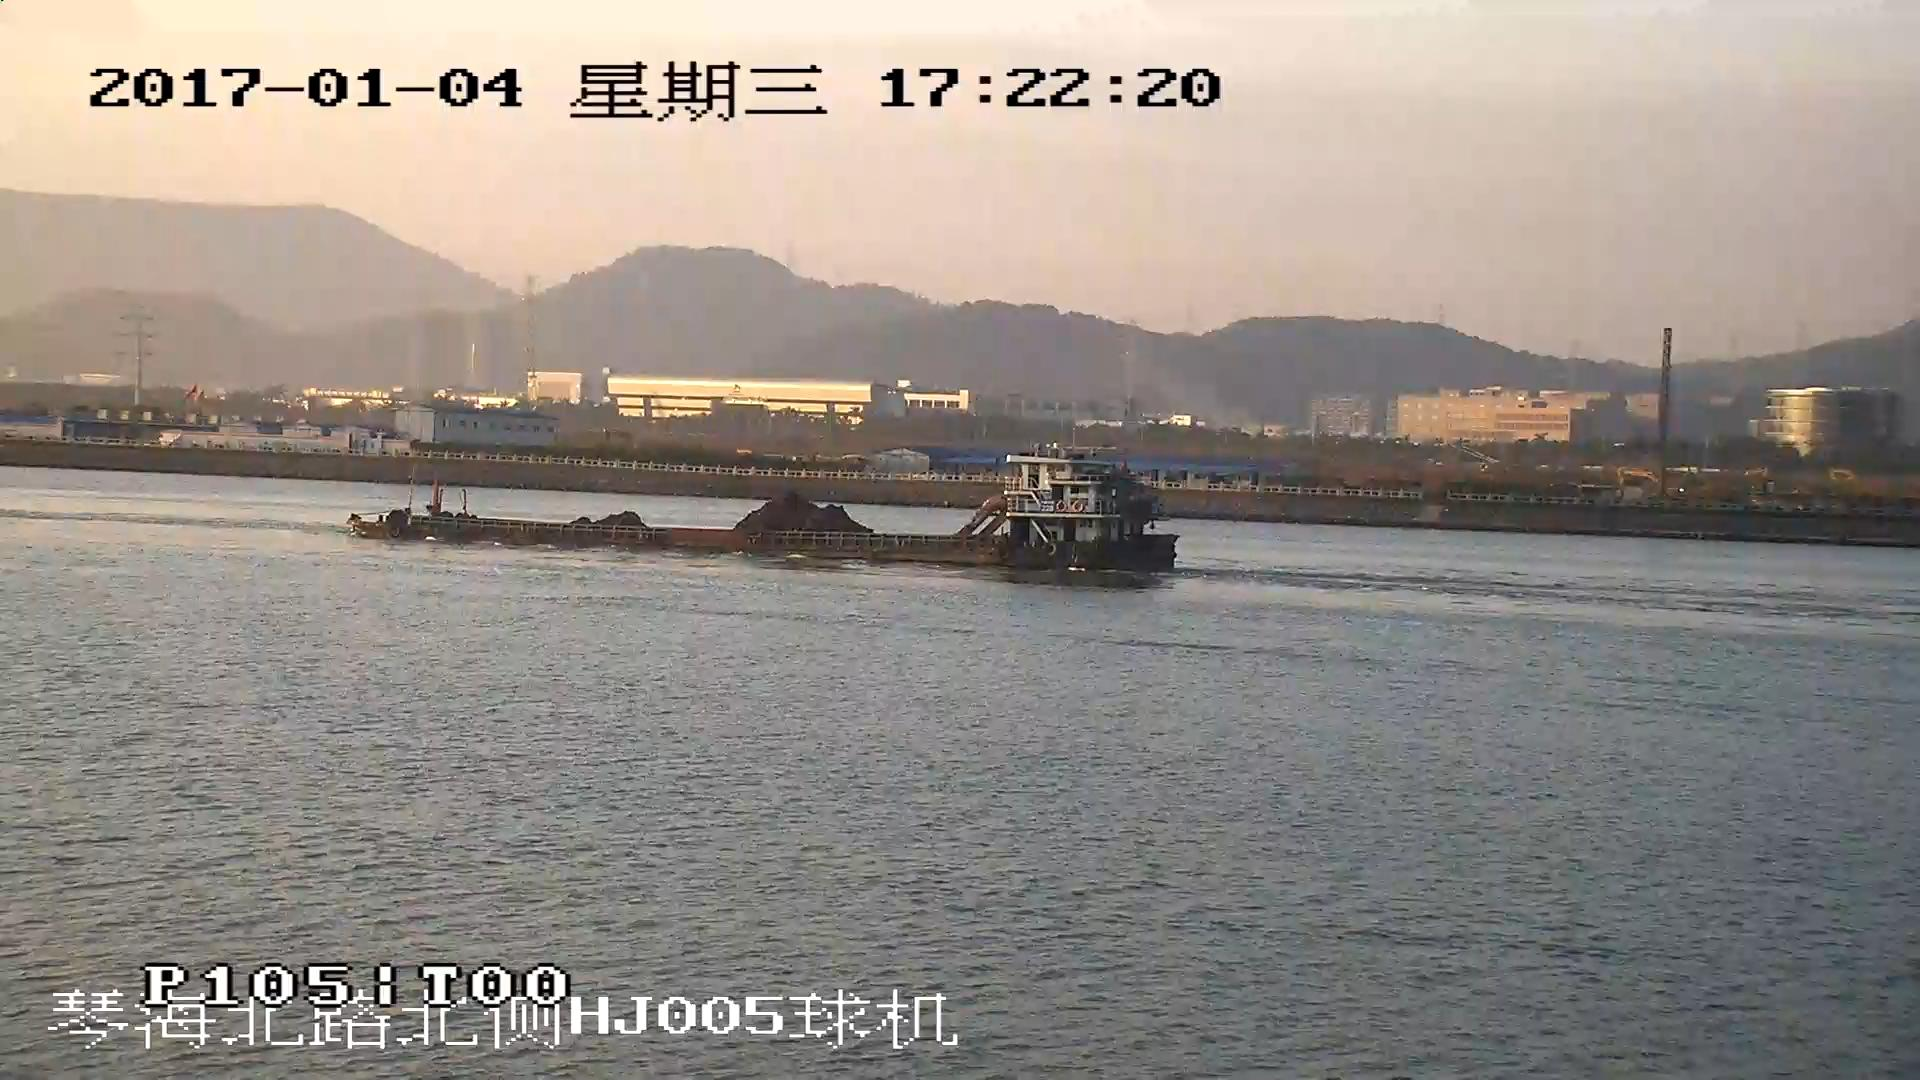ore carrier: (351, 454, 1182, 569)
